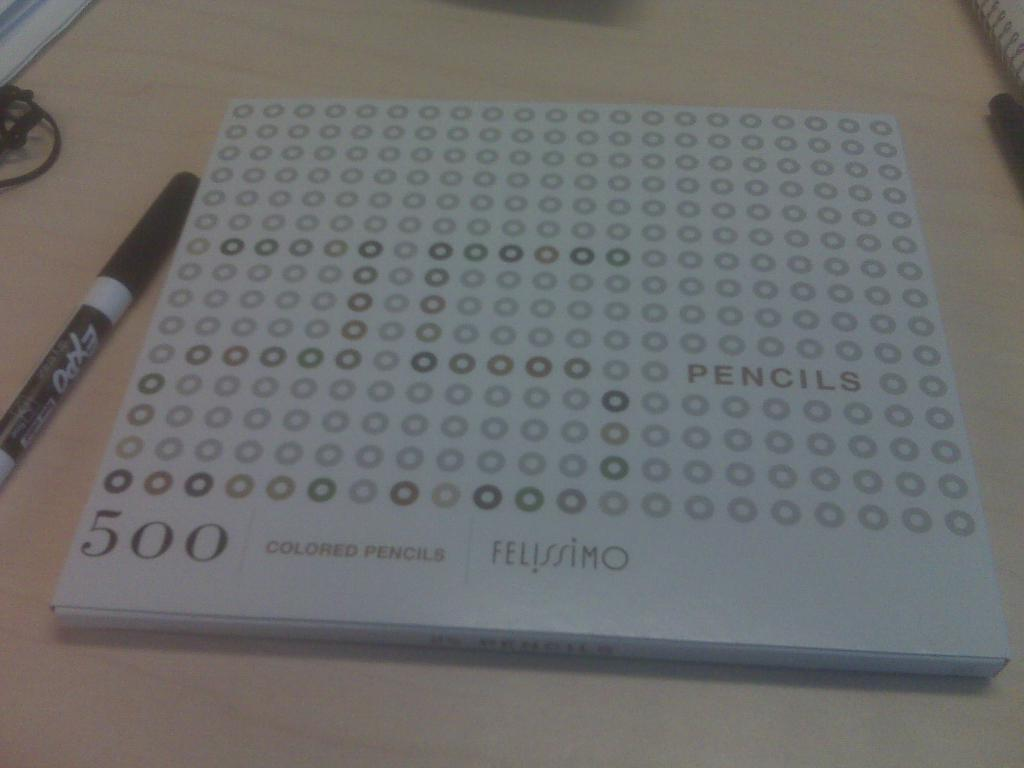pen: (0, 166, 212, 481)
